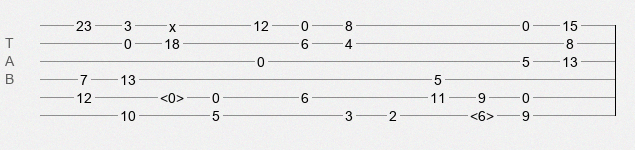0: (124, 36, 132, 46), (212, 90, 220, 100), (257, 54, 265, 64), (301, 18, 309, 28), (522, 18, 530, 28), (522, 90, 530, 100)
10: (120, 108, 136, 118)
11: (430, 90, 446, 100)
12: (76, 90, 92, 100), (253, 18, 269, 28)
13: (120, 72, 136, 82), (562, 54, 578, 64)
15: (562, 18, 578, 28)
18: (164, 36, 180, 46)
2: (389, 108, 397, 118)
23: (76, 18, 92, 28)
3: (124, 18, 132, 28), (345, 108, 353, 118)
4: (345, 36, 353, 46)
5: (212, 108, 220, 118), (434, 72, 442, 82), (522, 54, 530, 64)
6: (301, 90, 309, 100), (301, 36, 309, 46)
7: (80, 72, 88, 82)
8: (345, 18, 353, 28), (566, 36, 574, 46)
9: (478, 90, 486, 100), (522, 108, 530, 118)
harmonic: (160, 90, 184, 100), (470, 108, 494, 118)
x: (169, 19, 176, 27)
